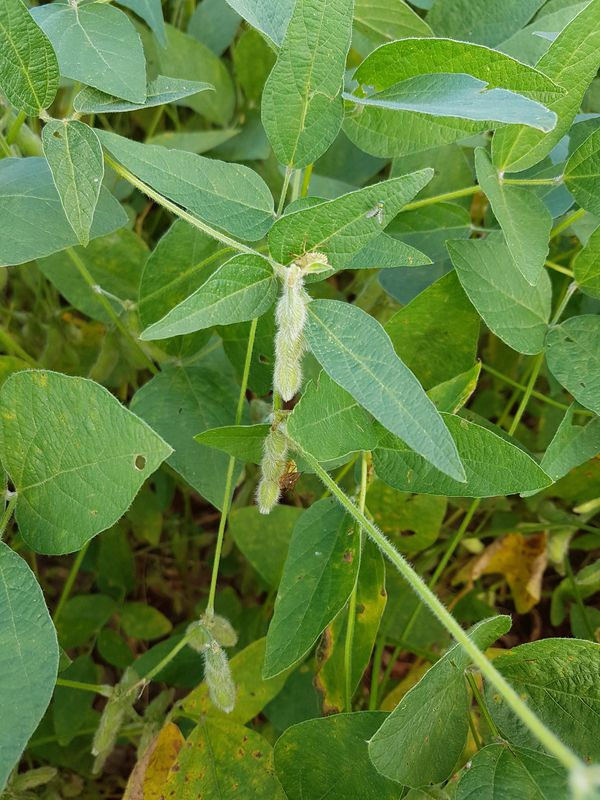Euschistus_heros_adulto: (272, 457, 312, 498)
Euschistus_heros_ninfa: (286, 236, 336, 280)
